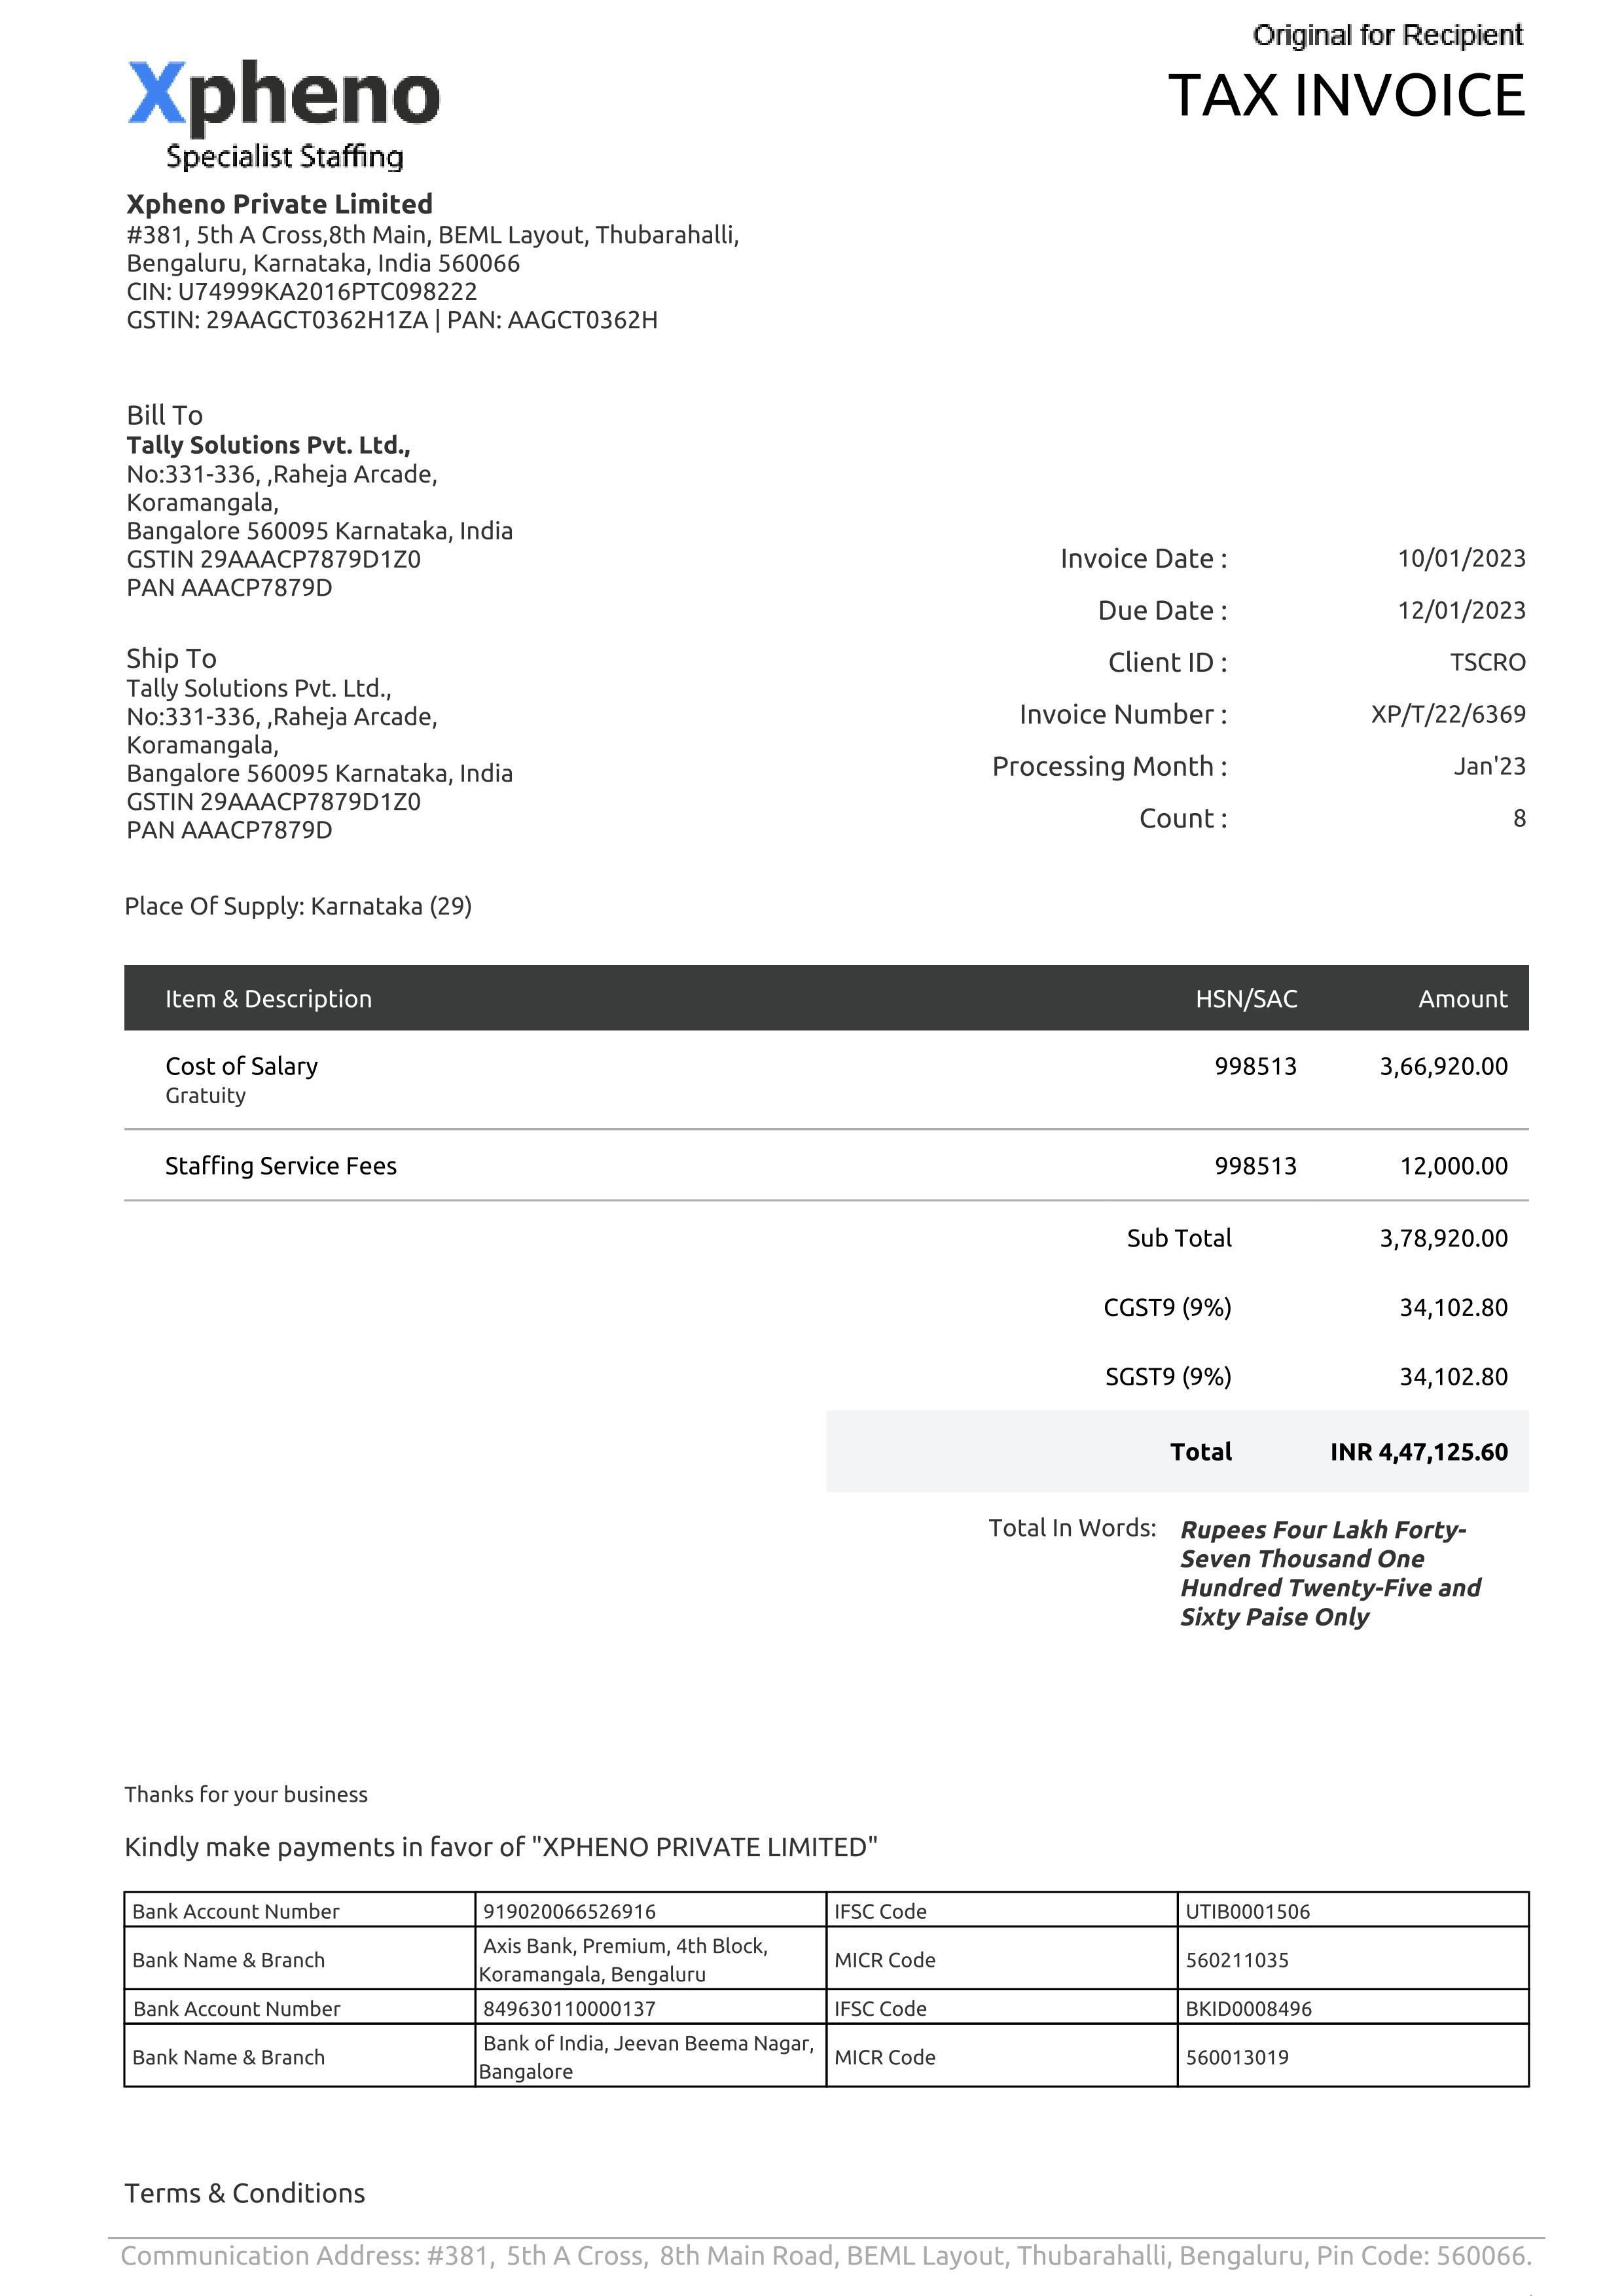InvoiceDate: (1378, 534, 1541, 591)
InvoiceNumber: (1350, 694, 1541, 744)
TotalAmount: (1320, 1420, 1526, 1477)
